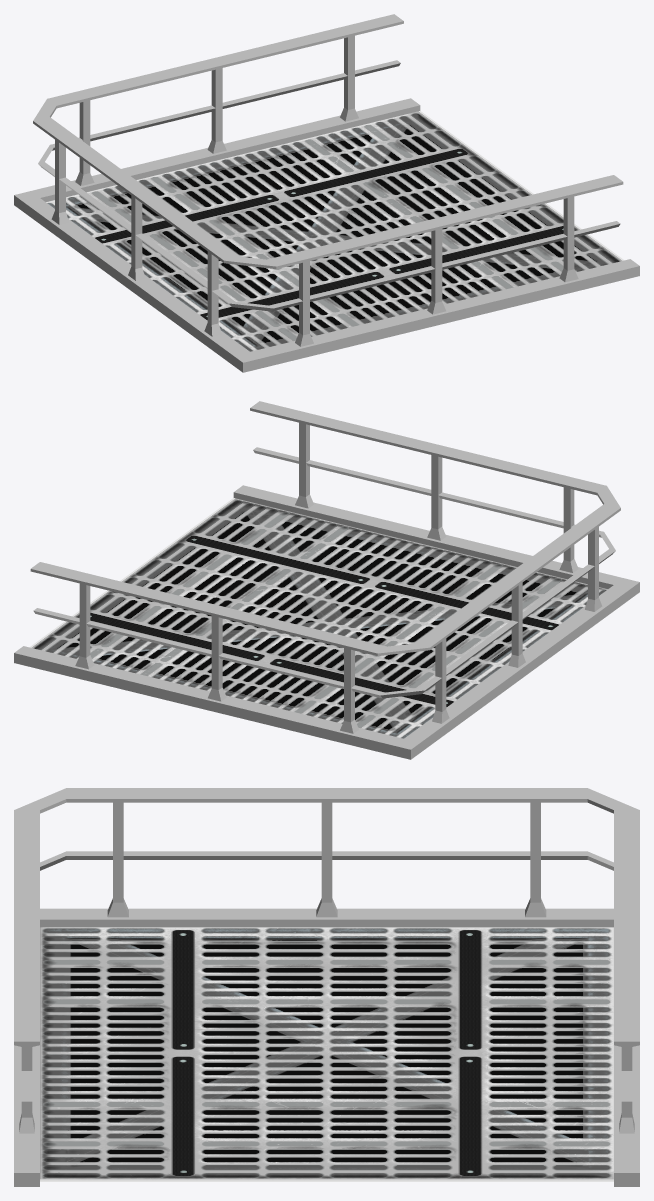
Rendered from PlateForm_End_01.FBX.
3 renders of one model, top to bottom at view 1: azimuth 30°, elevation 25°; view 2: azimuth 150°, elevation 25°; view 3: azimuth 270°, elevation 25°, orthographic. The views are drawn at different scales.
Parts seen in each view (by area): view 1: PlateForm_End_01; view 2: PlateForm_End_01; view 3: PlateForm_End_01.
Boxes of the visible parts, x1,y1,x2,y2 form: PlateForm_End_01: (14, 14, 639, 372); PlateForm_End_01: (14, 401, 639, 759); PlateForm_End_01: (14, 788, 639, 1186).
Size of the model in its own units: 6 by 1.42 by 6.
